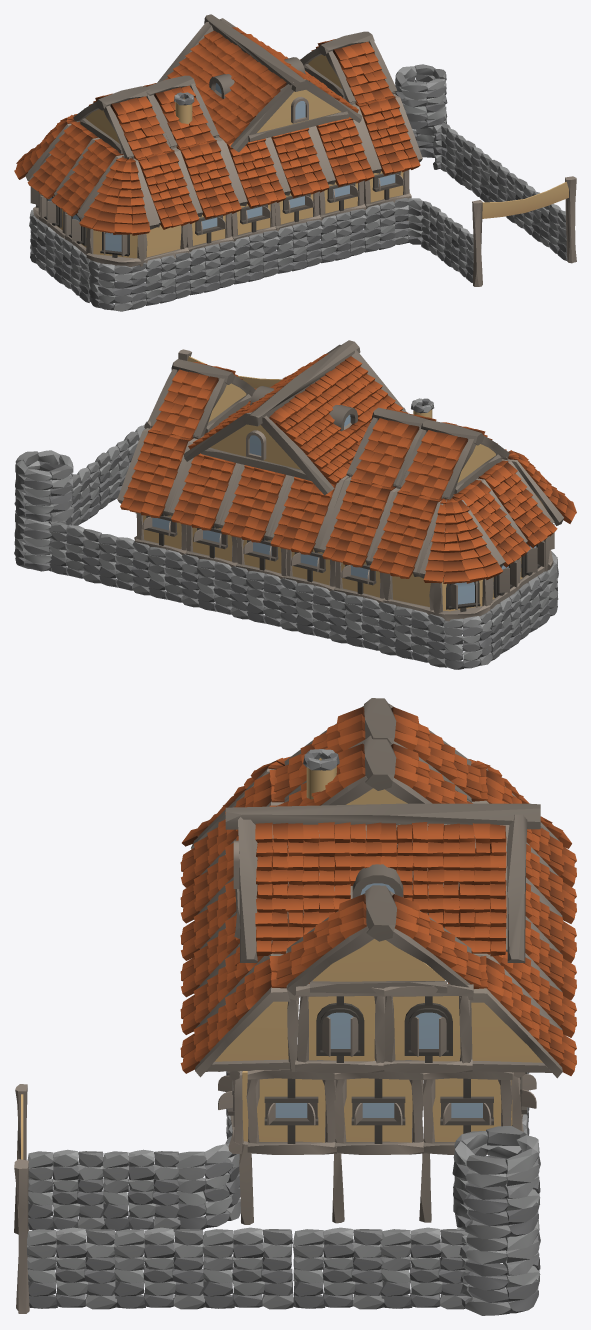
The model's file is big_building2.fbx.
3 renders of one model, top to bottom at view 1: azimuth 30°, elevation 25°; view 2: azimuth 150°, elevation 25°; view 3: azimuth 270°, elevation 25°, orthographic. The views are drawn at different scales.
Visible parts, largest first — view 1: big_building2; view 2: big_building2; view 3: big_building2.
Part boxes in pixels (box(x1,y1,x2,y2)): big_building2: box(14, 14, 576, 311); big_building2: box(14, 340, 576, 669); big_building2: box(14, 698, 576, 1315).
Bounding box in the file's own units: 47 × 19.7 × 30.87.
